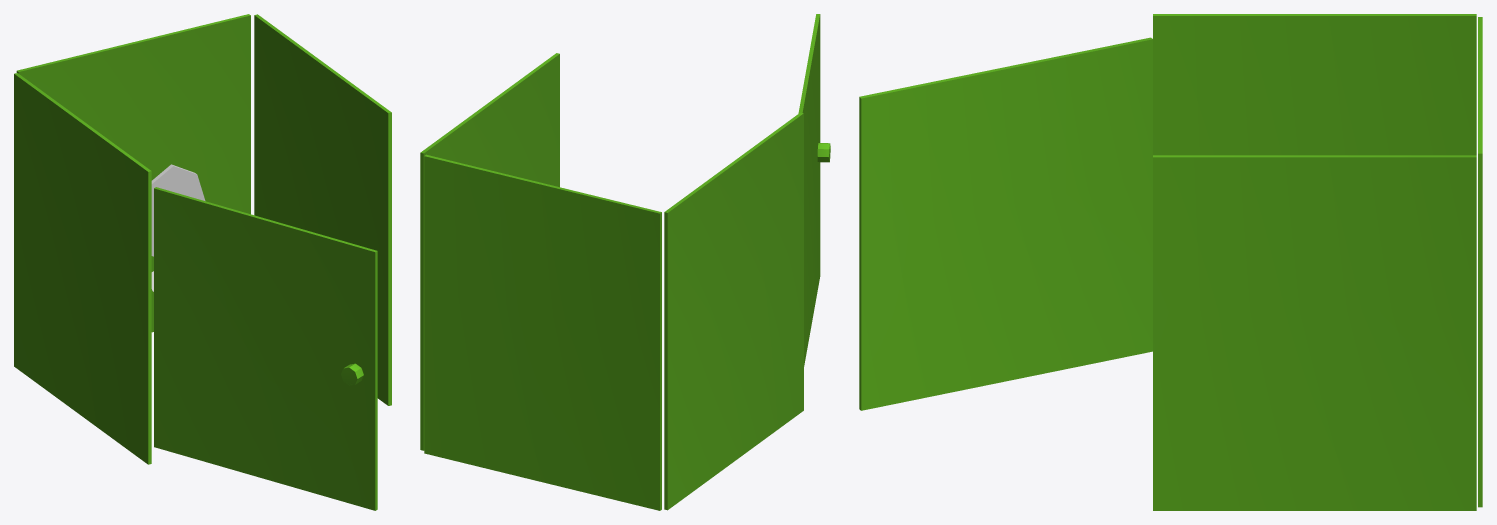
Rendered from Baño puerta abierta.fbx.
3 renders of one model, left to right at view 1: azimuth 30°, elevation 25°; view 2: azimuth 150°, elevation 25°; view 3: azimuth 270°, elevation 25°, orthographic. The views are drawn at different scales.
Parts seen in each view (by area): view 1: Cylinder, Cylinder.001; view 2: Cylinder; view 3: Cylinder.
Part boxes in pixels (x1=…): Cylinder: x1=14, y1=14, x2=391, y2=510; Cylinder.001: x1=151, y1=164, x2=205, y2=291; Cylinder: x1=420, y1=14, x2=830, y2=510; Cylinder: x1=859, y1=14, x2=1482, y2=510.
Bounding box in the file's own units: 915 × 1062 × 1680.
